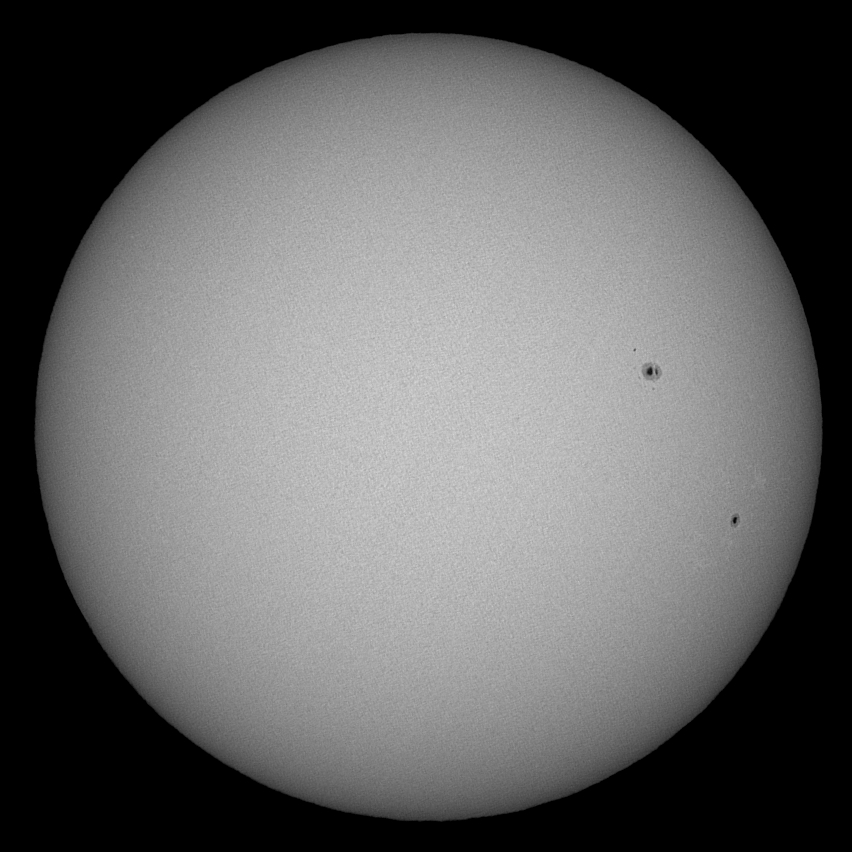sunspot: (639, 358, 665, 382), (728, 511, 743, 526)
